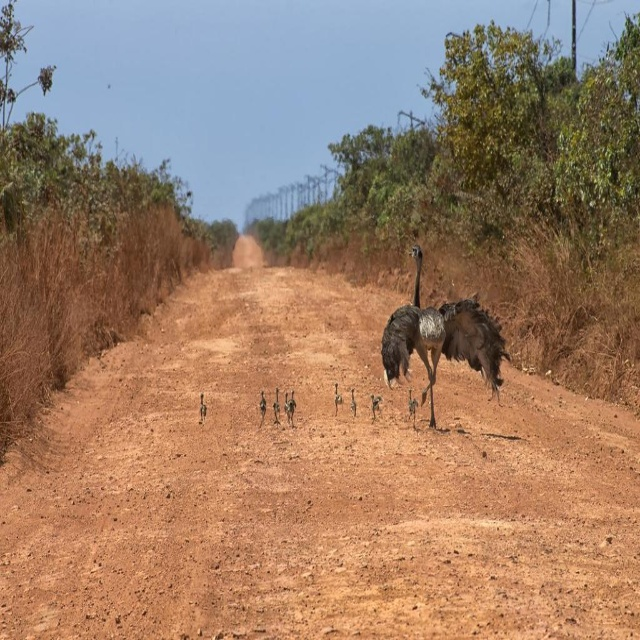Ostrich: (381, 243, 511, 429), (408, 389, 421, 427), (284, 392, 296, 425), (371, 394, 384, 420), (335, 382, 343, 418), (273, 387, 280, 425), (259, 391, 267, 423), (199, 394, 207, 424), (351, 388, 358, 417)
